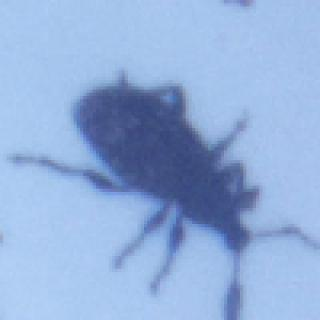bvw: (7, 69, 320, 319)
